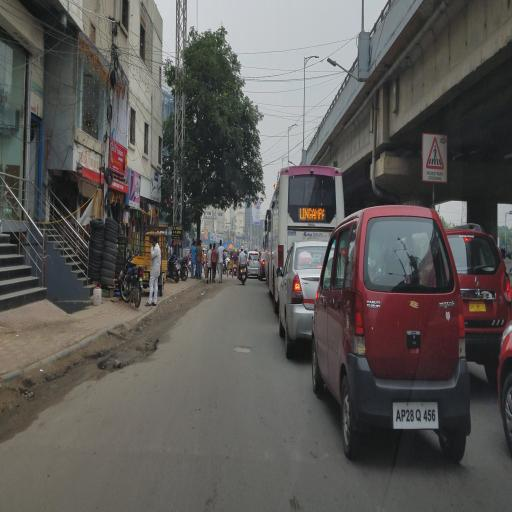street_light_0: (325, 50, 357, 78), (302, 47, 326, 68), (286, 119, 310, 137)
